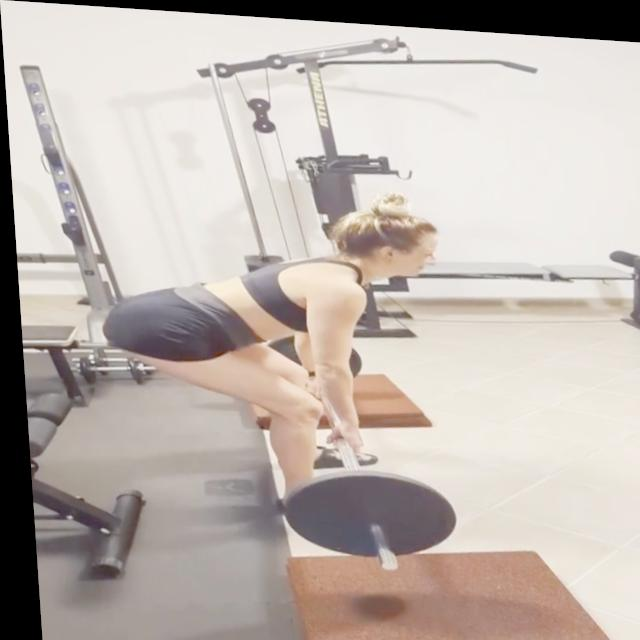barbell: (269, 456, 459, 574)
